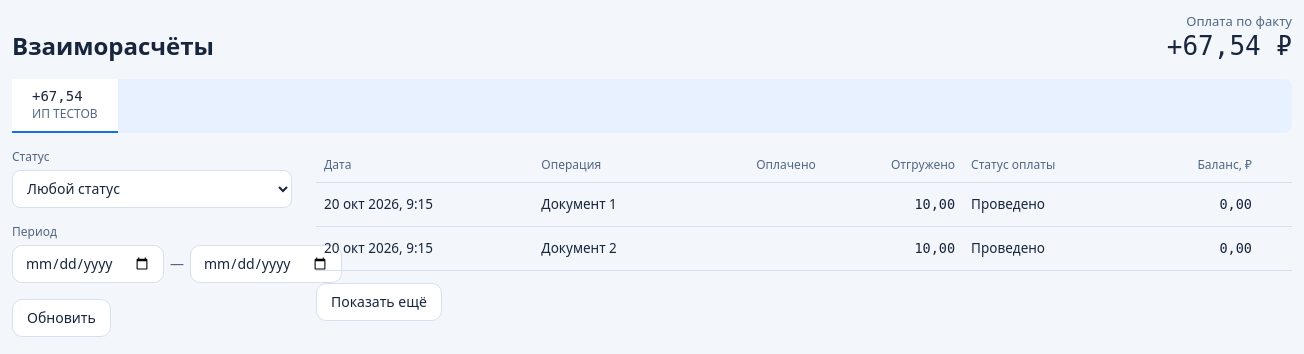
Test: SettlementsPage › loads more documents until all are shown
expect the text "Документ 2" is shown: met, box [533,226,692,270]
Click the button "Показать ещё": coordinates (379, 302) [316,283,442,321]
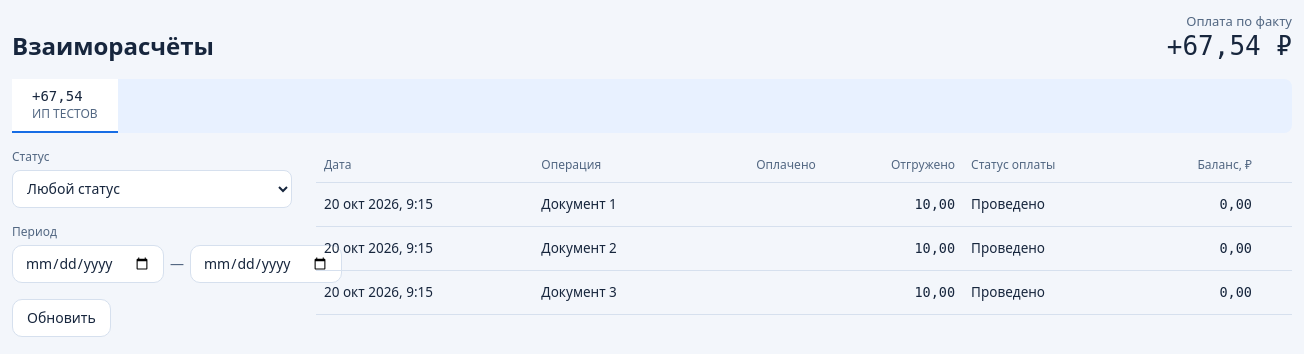
expect the text "Документ 3" is shown: met, box [533,270,692,314]
expect the button "Показать ещё" is gone: met
